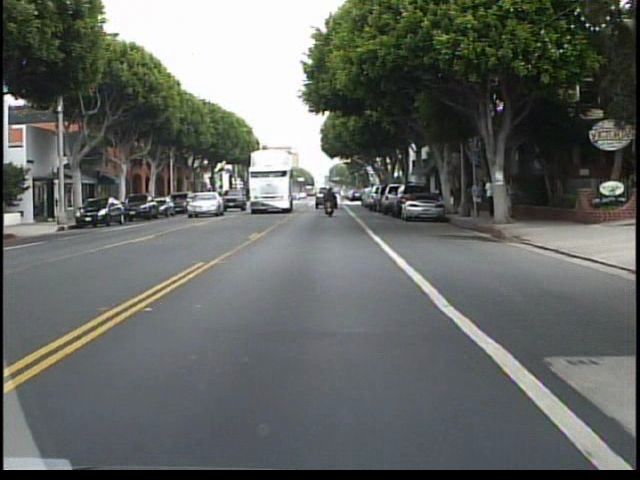person: (321, 182, 339, 220), (471, 176, 486, 219), (482, 175, 496, 221), (510, 172, 511, 219)
